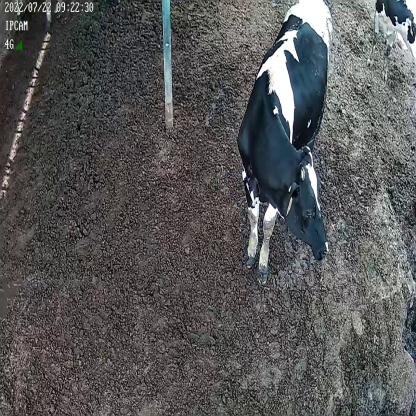cow: (237, 0, 340, 283)
